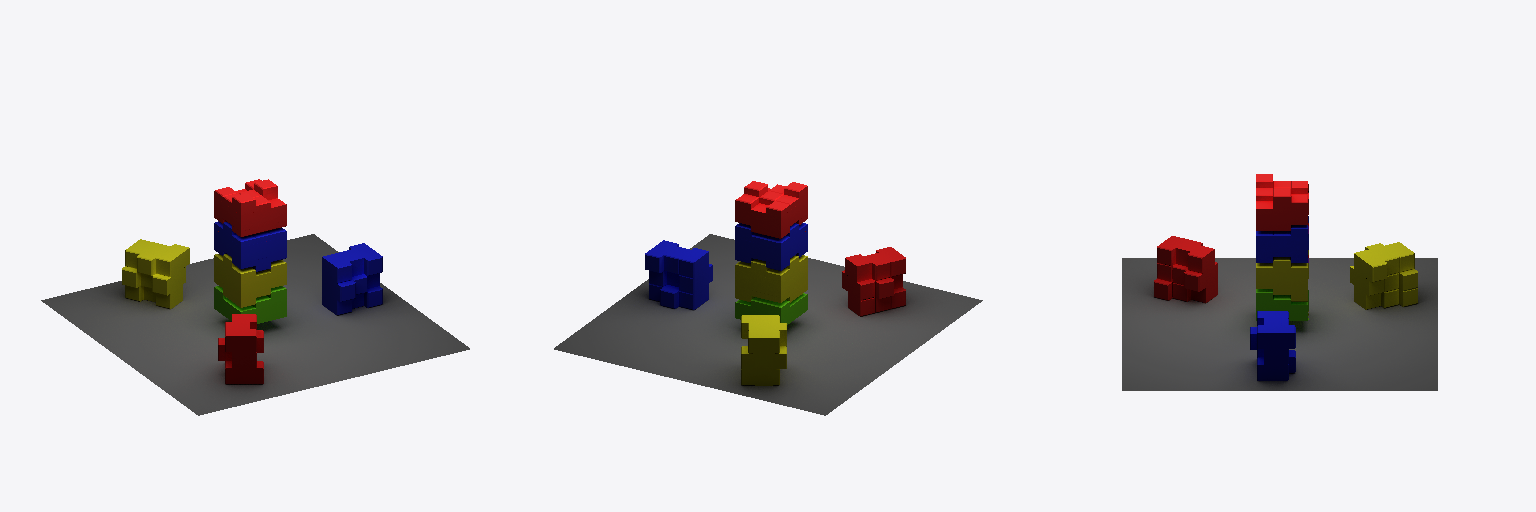
3 renders of one model, left to right at view 1: azimuth 30°, elevation 25°; view 2: azimuth 150°, elevation 25°; view 3: azimuth 270°, elevation 25°, orthographic.
Parts seen in each view (by area): view 1: object_8.002; view 2: object_8.002; view 3: object_8.002.
Boxes of the visible parts, box(x1,y1,x2,y2) form: object_8.002: box(41, 179, 469, 415); object_8.002: box(554, 181, 982, 415); object_8.002: box(1122, 174, 1437, 390).
Bounding box in the file's own units: 89.3 × 43.02 × 89.3.
Materials: 2 (2 with a texture image).